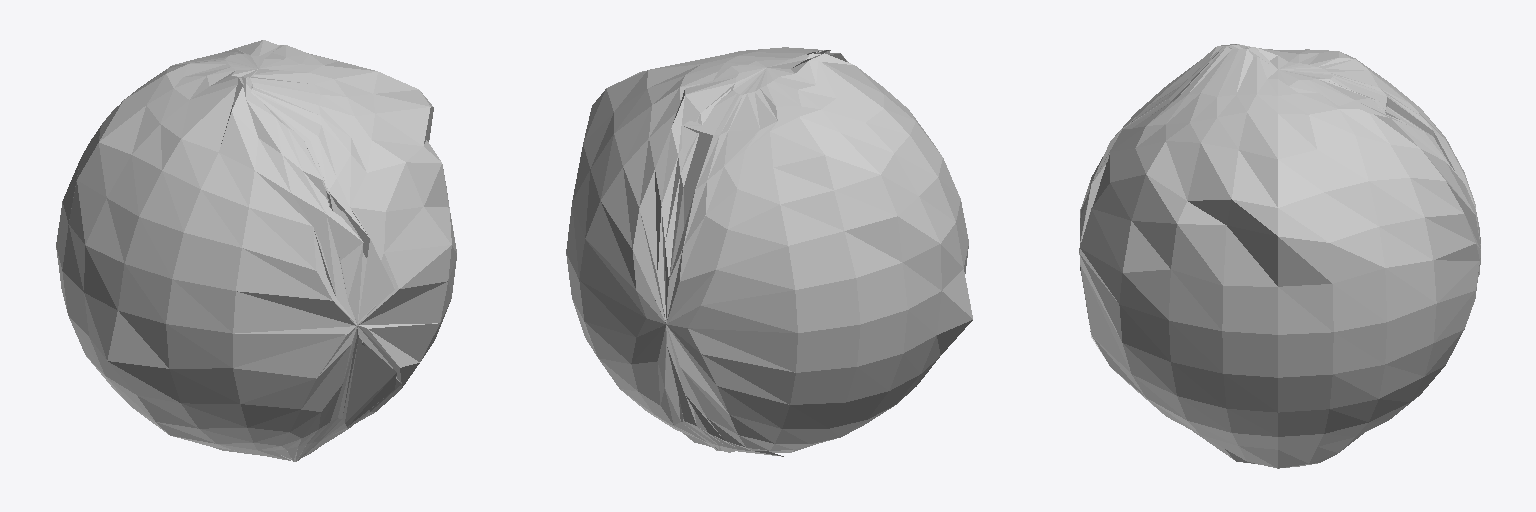
Rendered from topoEarth_shrinkwrap.obj.
The picture shows the model from 3 angles: view 1: azimuth 30°, elevation 25°; view 2: azimuth 150°, elevation 25°; view 3: azimuth 270°, elevation 25°; orthographic projection.
Parts seen in each view (by area): view 1: Sphere; view 2: Sphere; view 3: Sphere.
Part boxes in pixels (x1,y1,x2,y2): Sphere: (56,40,456,461); Sphere: (566,47,972,456); Sphere: (1079,44,1480,468).
Bounding box in the file's own units: 236 × 250 × 232.